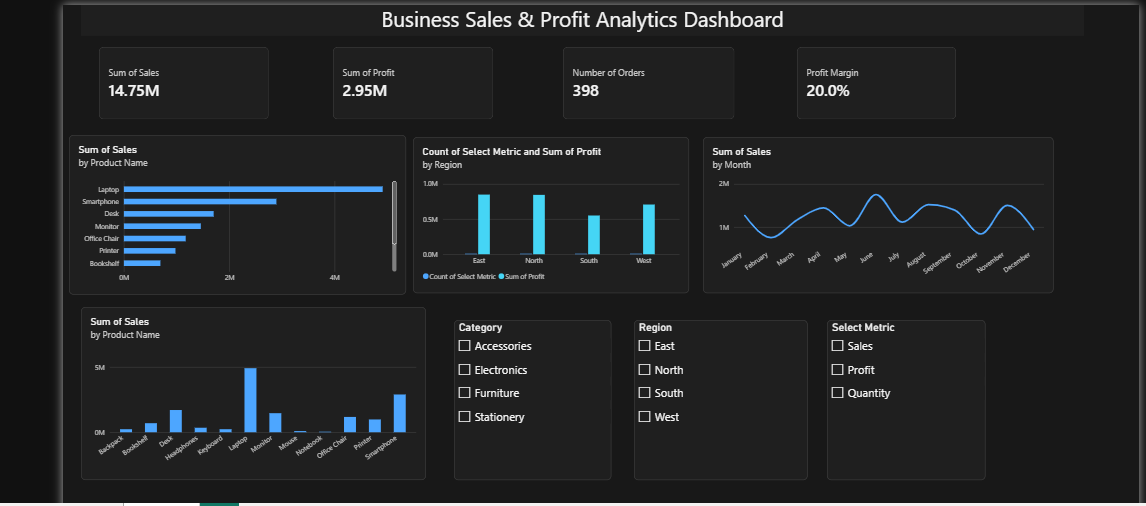

The dashboard page shown, as its layout file describes it:
{"tool":"powerbi","page":{"name":"Page 1","canvas":[1920,1080],"ordinal":0},"visuals":[{"type":"cardVisual","fields":{"Data":["Sum(Sheet1.Sales)"]},"box":[63.8,74.1,303.4,129.3],"z":0},{"type":"cardVisual","fields":{"Data":["Sum(Sheet1.Profit)"]},"box":[482.8,74.1,286.2,129.3],"z":1000},{"type":"cardVisual","fields":{"Data":["Sheet1.Number of Orders"]},"box":[893.1,74.1,306.9,129.3],"z":2000},{"type":"cardVisual","fields":{"Data":["Sheet1.Profit Margin"]},"box":[1310.3,74.1,284.5,129.3],"z":3000},{"type":"clusteredColumnChart","fields":{"Category":["Sheet1.Region"],"Y":["CountNonNull(Select Metric.Select Metric)","Sum(Sheet1.Profit)"]},"box":[625.9,236.2,493.1,279.3],"z":4000},{"type":"clusteredColumnChart","fields":{"Category":["Sheet1.Category","Sheet1.Product Name"],"Y":["Sum(Sheet1.Sales)"]},"box":[32.8,539.7,615.5,308.6],"z":5000},{"type":"lineChart","fields":{"Category":["Sheet1.Month.Variation.Date Hierarchy.Month"],"Y":["Sum(Sheet1.Sales)"]},"box":[1143.1,236.2,625.9,279.3],"z":6000},{"type":"clusteredBarChart","fields":{"Category":["Sheet1.Product Name"],"Y":["Sum(Sheet1.Sales)"]},"box":[10.5,231.6,602.2,284.7],"z":7000},{"type":"slicer","fields":{"Values":["Sheet1.Region"]},"box":[1019,562.1,310.3,286.2],"z":8000},{"type":"slicer","fields":{"Values":["Sheet1.Category"]},"box":[698.3,562.1,281,286.2],"z":9000},{"type":"slicer","fields":{"Values":["Select Metric.Select Metric"]},"box":[1363.8,562.1,282.8,286.2],"z":10000},{"type":"textbox","box":[32.8,0,1791.4,55.2],"z":11000}]}

Visuals, with their boxes on the page's 1920x1080 design canvas (x1, y1, x2, y2). These are canvas units, not pixel positions in the 1146x506 screenshot, which may show the page scaled, cropped or inside an application window:
cardVisual - Sum(Sheet1.Sales): rect(64, 74, 367, 203)
cardVisual - Sum(Sheet1.Profit): rect(483, 74, 769, 203)
cardVisual - Sheet1.Number of Orders: rect(893, 74, 1200, 203)
cardVisual - Sheet1.Profit Margin: rect(1310, 74, 1595, 203)
clusteredColumnChart - Sheet1.Region x CountNonNull(Select Metric.Select Metric): rect(626, 236, 1119, 516)
clusteredColumnChart - Sheet1.Category x Sheet1.Product Name: rect(33, 540, 648, 848)
lineChart - Sheet1.Month.Variation.Date Hierarchy.Month x Sum(Sheet1.Sales): rect(1143, 236, 1769, 516)
clusteredBarChart - Sheet1.Product Name x Sum(Sheet1.Sales): rect(10, 232, 613, 516)
slicer - Sheet1.Region: rect(1019, 562, 1329, 848)
slicer - Sheet1.Category: rect(698, 562, 979, 848)
slicer - Select Metric.Select Metric: rect(1364, 562, 1647, 848)
textbox: rect(33, 0, 1824, 55)
